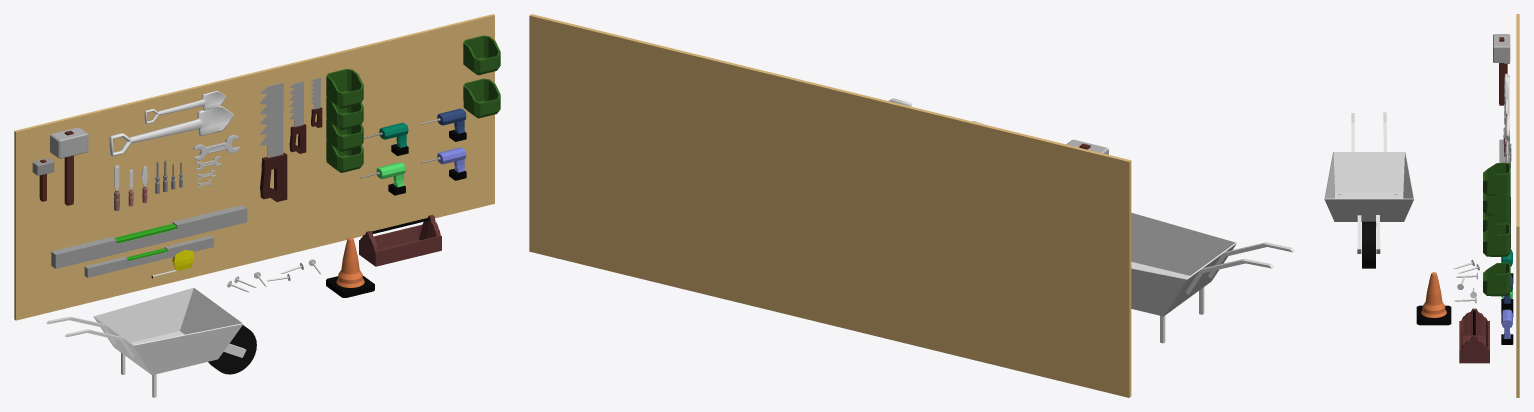
The model's file is Props.fbx.
3 views of the same model, side by side, from view 1: azimuth 30°, elevation 25°; view 2: azimuth 150°, elevation 25°; view 3: azimuth 270°, elevation 25° (orthographic). The views are drawn at different scales.
Parts seen in each view (by area): view 1: Plane, Cube.022, Cube.009, Cube.008, Plane.002, Plane.001, Cube.035, Cube.003, Cube.007, Cube.034, Cube.033, Cube.032 (+12 smaller); view 2: Plane, Cube.022; view 3: Cube.022, Cube.008, Plane, Cube.007, Cube.034, Cube.033, Cube.032, Cube.003, Cube.031, Cube.015, Cube.030, Plane.001 (+1 smaller).
Boxes of the visible parts, x1,y1,x2,y2 form: Plane: [14, 14, 494, 320]; Cube.022: [46, 287, 256, 397]; Cube.009: [51, 205, 247, 268]; Cube.008: [359, 215, 441, 266]; Plane.002: [259, 82, 287, 201]; Plane.001: [109, 106, 233, 156]; Cube.035: [84, 235, 213, 277]; Cube.003: [50, 127, 88, 205]; Cube.007: [326, 237, 374, 297]; Cube.034: [463, 78, 500, 118]; Cube.033: [463, 35, 500, 75]; Cube.032: [326, 69, 363, 108]; Plane: [529, 14, 1131, 397]; Cube.022: [1131, 212, 1295, 343]; Cube.022: [1324, 112, 1413, 268]; Cube.008: [1459, 308, 1489, 363]; Plane: [1516, 14, 1519, 397]; Cube.007: [1416, 272, 1451, 325]; Cube.034: [1483, 262, 1510, 296]; Cube.033: [1483, 223, 1510, 256]; Cube.032: [1483, 162, 1510, 195]; Cube.003: [1493, 34, 1510, 105]; Cube.031: [1483, 192, 1510, 215]; Cube.015: [1501, 309, 1513, 344]; Cube.030: [1483, 212, 1510, 232]; Plane.001: [1503, 74, 1509, 141].
Size of the model in its own units: 4532 by 1619 by 1767.
